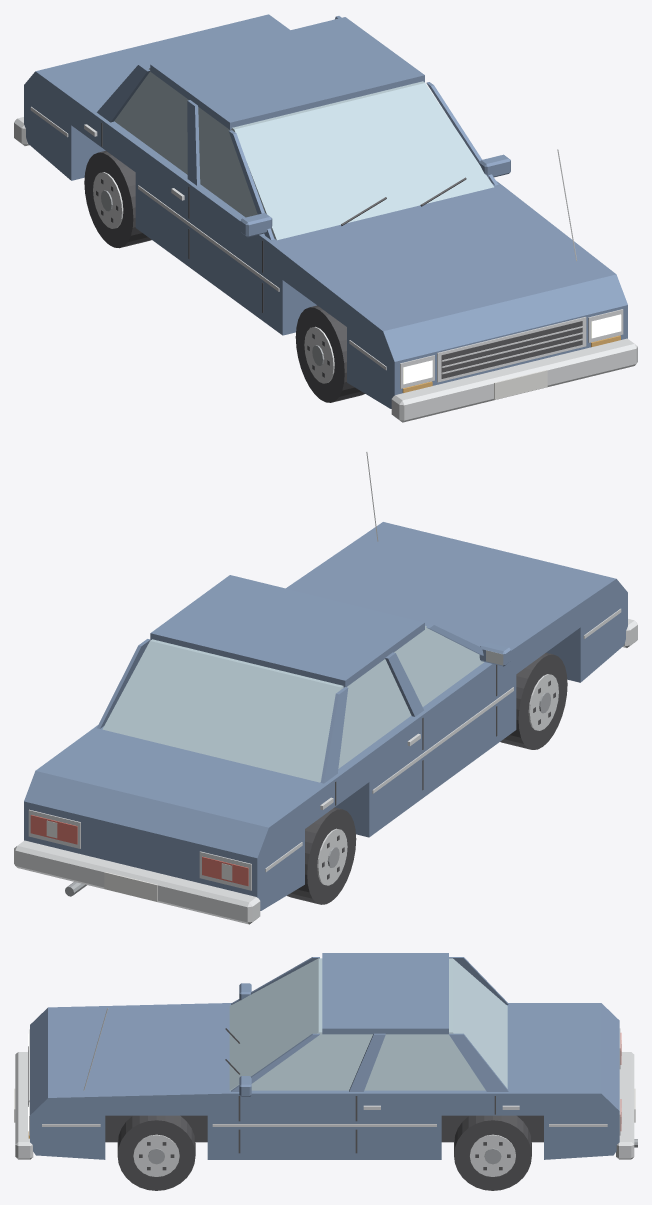
File: car_sedan_b.glb
The picture shows the model from 3 angles, top to bottom: view 1: azimuth 30°, elevation 25°; view 2: azimuth 150°, elevation 25°; view 3: azimuth 270°, elevation 25°; orthographic projection. The views are drawn at different scales.
Visible parts, largest first — view 1: car_sedan_b_car_b, car_sedan_b_glass, car_sedan_b_chrome, car_sedan_b_rubber, car_sedan_b_dark, car_sedan_b_lamp_glass, car_sedan_b_paint_w; view 2: car_sedan_b_car_b, car_sedan_b_glass, car_sedan_b_chrome, car_sedan_b_rubber, car_sedan_b_neon_r, car_sedan_b_paint_w; view 3: car_sedan_b_car_b, car_sedan_b_glass, car_sedan_b_rubber, car_sedan_b_chrome, car_sedan_b_dark, car_sedan_b_steel.
Part boxes in pixels (bbox=[...]): car_sedan_b_car_b: bbox=[24, 14, 627, 408]; car_sedan_b_glass: bbox=[114, 68, 493, 240]; car_sedan_b_chrome: bbox=[14, 106, 637, 422]; car_sedan_b_rubber: bbox=[84, 150, 364, 402]; car_sedan_b_dark: bbox=[96, 122, 582, 378]; car_sedan_b_lamp_glass: bbox=[403, 314, 621, 384]; car_sedan_b_paint_w: bbox=[494, 370, 547, 399]; car_sedan_b_car_b: bbox=[24, 522, 627, 910]; car_sedan_b_glass: bbox=[102, 626, 483, 782]; car_sedan_b_chrome: bbox=[14, 451, 637, 924]; car_sedan_b_rubber: bbox=[287, 652, 567, 904]; car_sedan_b_neon_r: bbox=[30, 815, 248, 886]; car_sedan_b_paint_w: bbox=[46, 820, 232, 901]; car_sedan_b_car_b: bbox=[30, 953, 619, 1159]; car_sedan_b_glass: bbox=[229, 958, 507, 1090]; car_sedan_b_rubber: bbox=[105, 1115, 543, 1190]; car_sedan_b_chrome: bbox=[15, 1008, 634, 1176]; car_sedan_b_dark: bbox=[28, 1028, 510, 1170]; car_sedan_b_steel: bbox=[148, 1139, 637, 1164].
Size of the model in its own units: 2 by 1.6 by 5.12.
